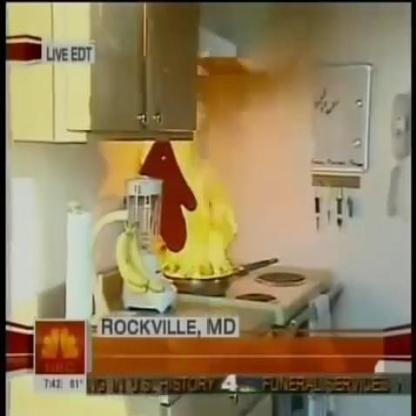fire: (148, 141, 238, 280)
